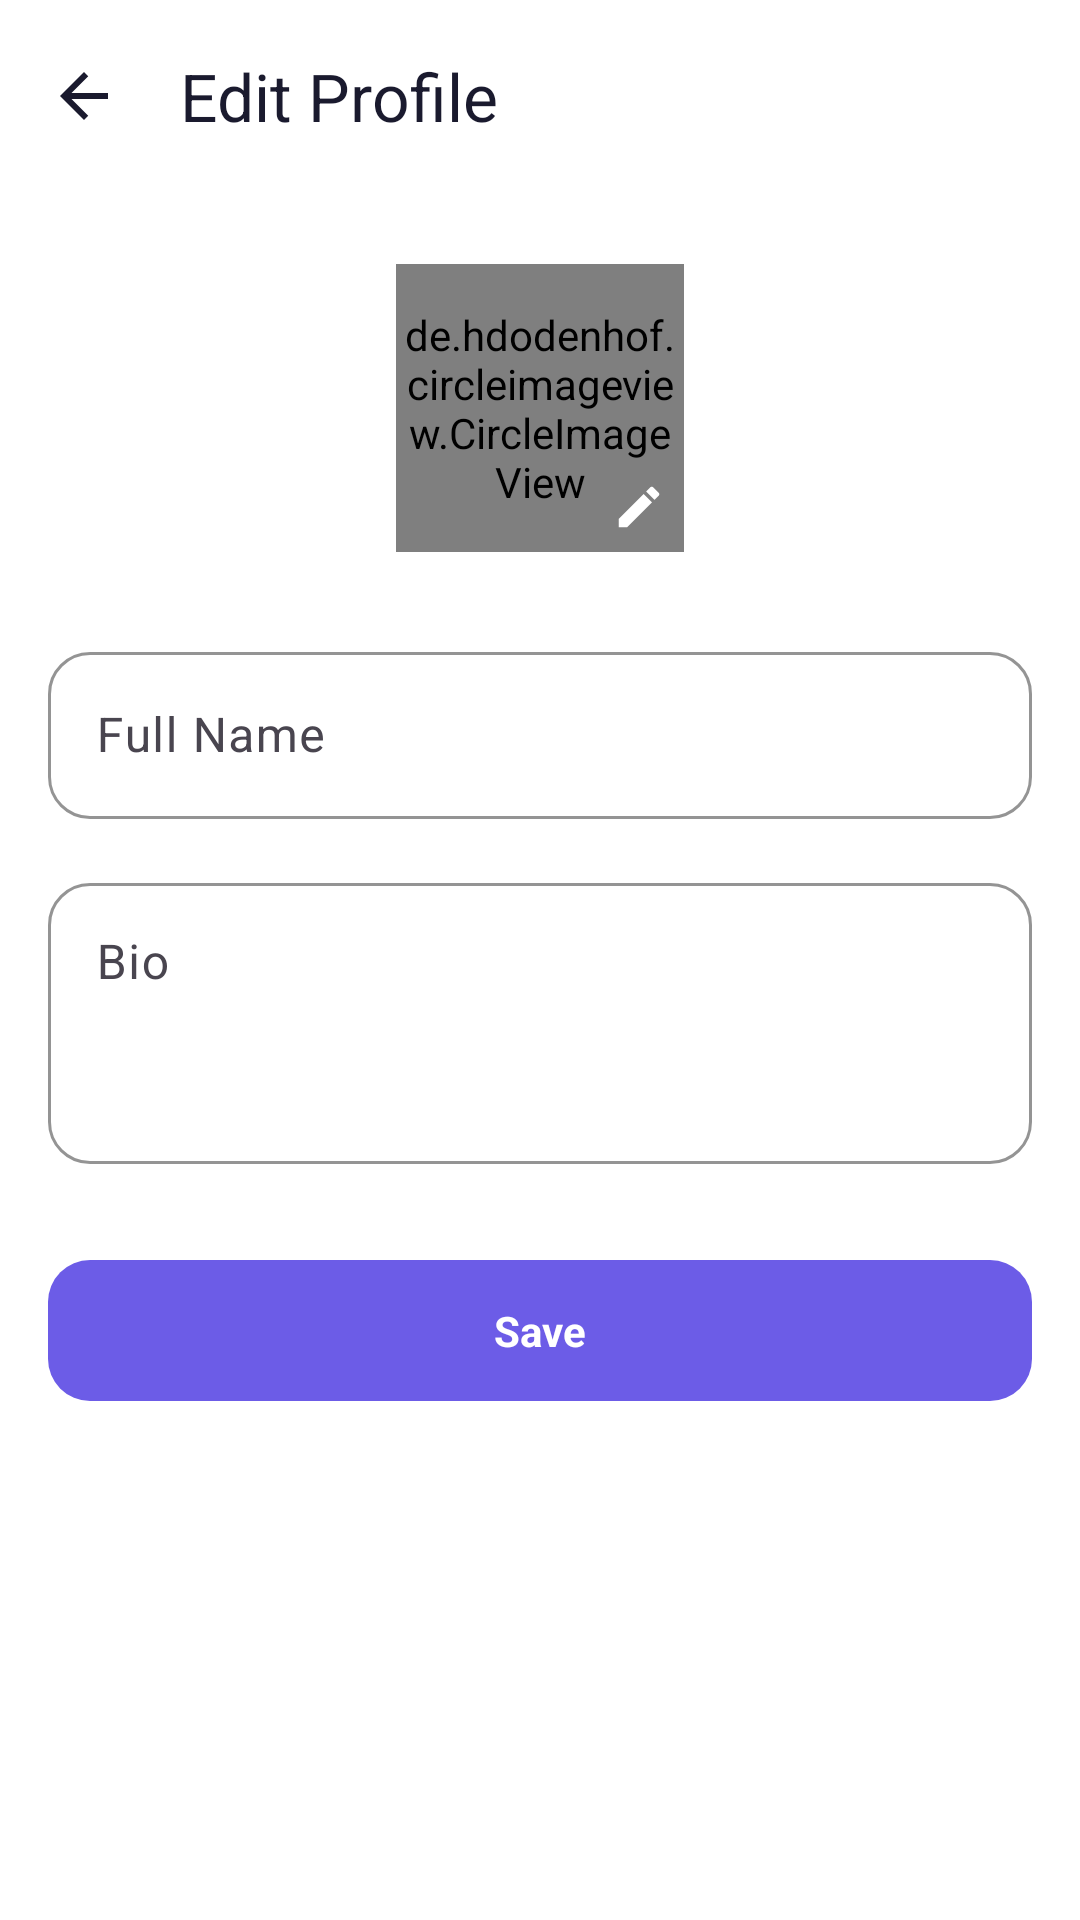

Icon bounding boxes for this 1080 × 1920 phone screenshot, format (x1, y1, x2, y2):
edit: (618, 486, 660, 528)
